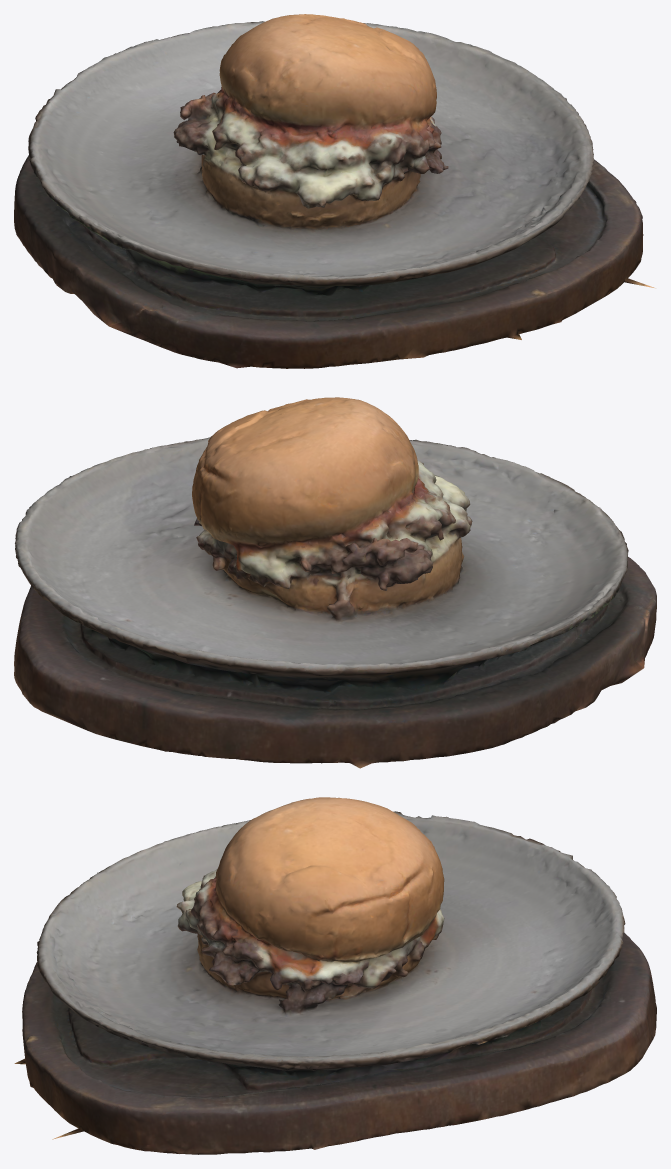
File: pobreMaria.glb
The picture shows the model from 3 angles, top to bottom: view 1: azimuth 30°, elevation 25°; view 2: azimuth 150°, elevation 25°; view 3: azimuth 270°, elevation 25°; orthographic projection. The views are drawn at different scales.
Parts seen in each view (by area): view 1: Mesh_0_Part_0.001; view 2: Mesh_0_Part_0.001; view 3: Mesh_0_Part_0.001.
Part boxes in pixels (left/top/right/bottom): Mesh_0_Part_0.001: left=14, top=14, right=655, bottom=368; Mesh_0_Part_0.001: left=14, top=397, right=656, bottom=768; Mesh_0_Part_0.001: left=14, top=797, right=656, bottom=1154.
Size of the model in its own units: 8.9 by 3.6 by 9.44.
1 material, 1 textured.
